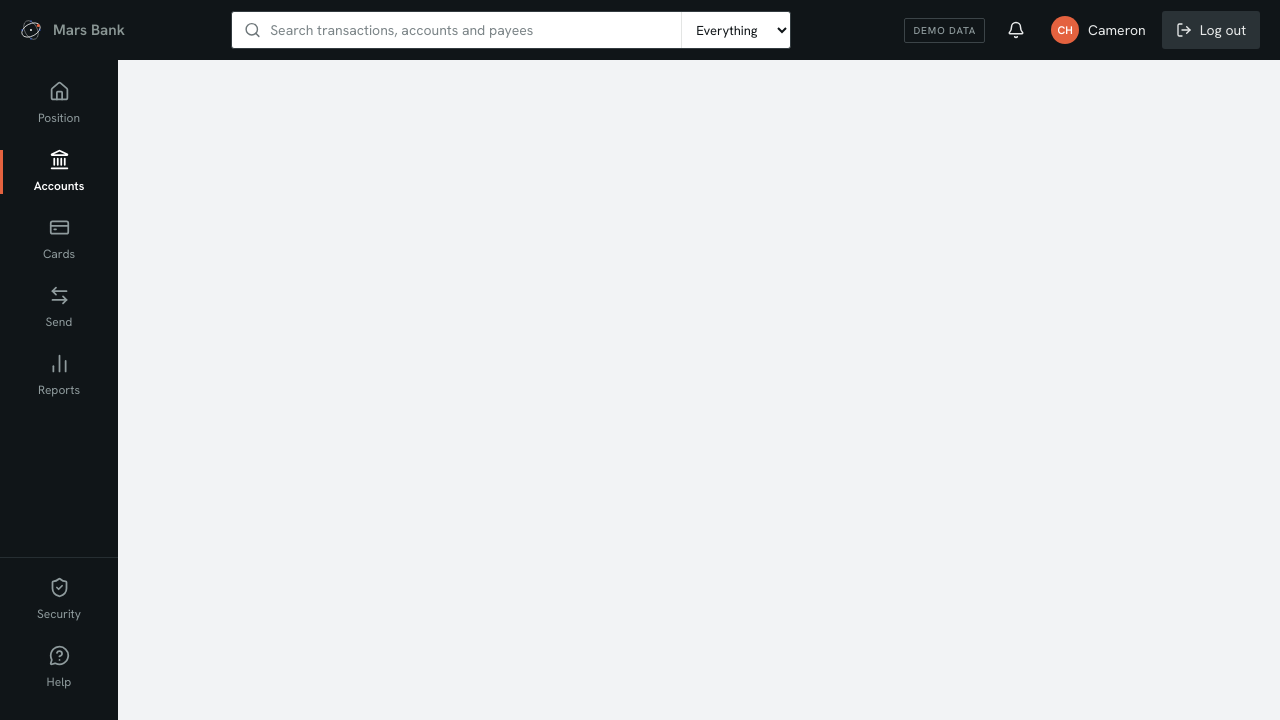
it: BankingShell › shows an empty incoming feed on a seeded register
What coordinates should you click on to do the following:
click the button named "Notifications"
I would click on:
 (1016, 30)
Its box is x1=997 y1=11 x2=1035 y2=49.
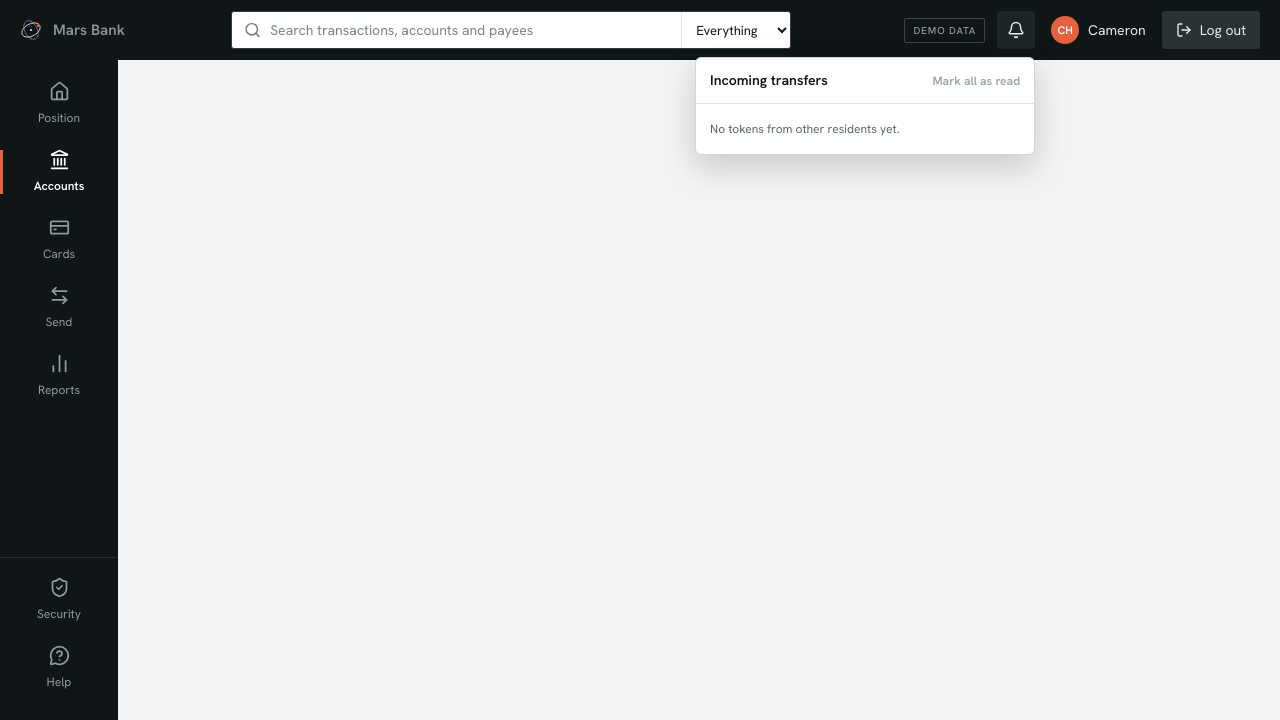
Result: the text "No tokens from other residents yet." is shown at x1=710 y1=121 x2=900 y2=137
Result: the button "Mark all as read" is disabled at x1=932 y1=72 x2=1020 y2=90
